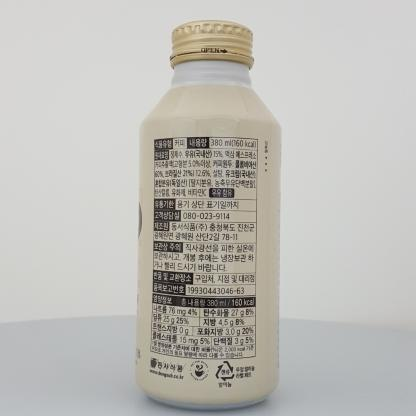-------TOP-----: (135, 20, 282, 410)
